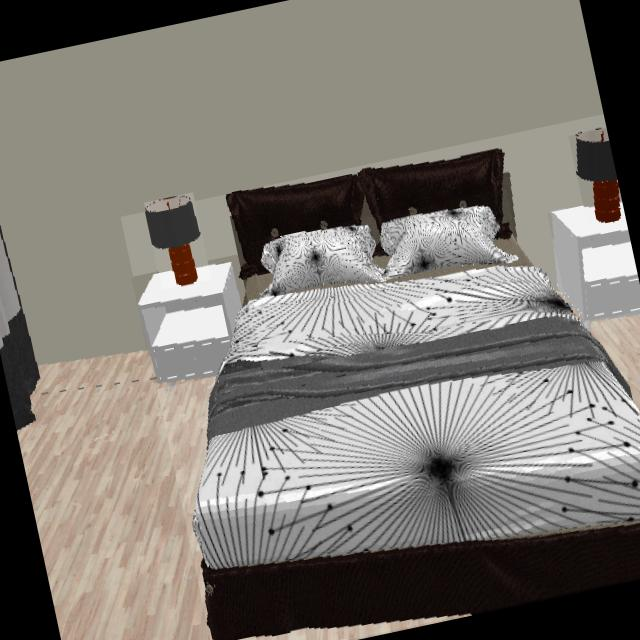bed: (192, 152, 640, 640)
lamp: (145, 194, 202, 286), (576, 129, 623, 223)
nighttable: (137, 261, 245, 385), (556, 208, 640, 319)
pillow: (261, 206, 521, 303)
